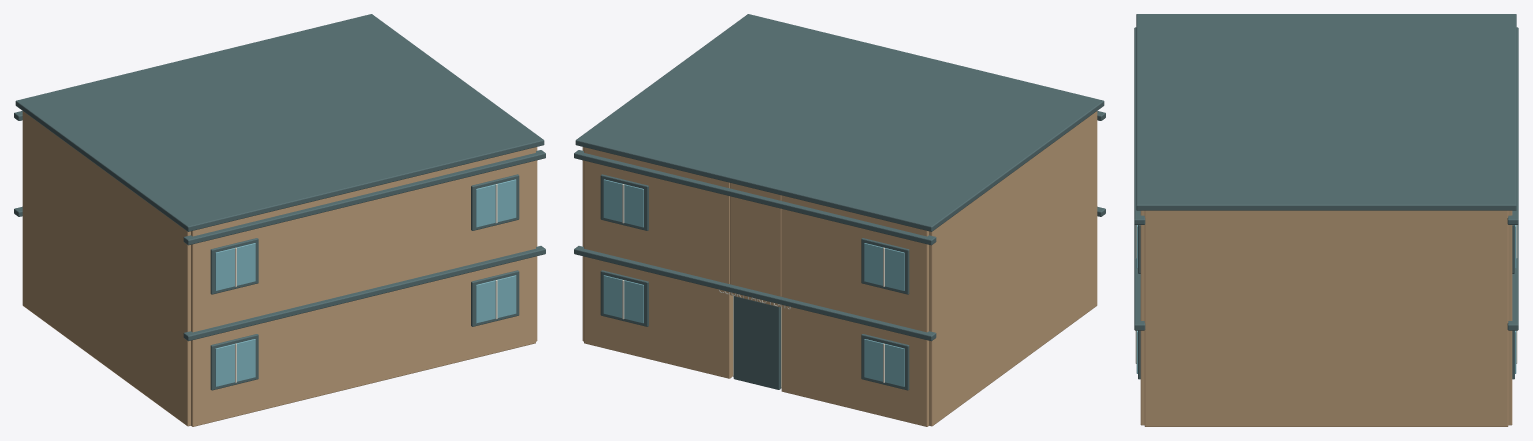
The model's file is flats.glb.
3 renders of one model, left to right at view 1: azimuth 30°, elevation 25°; view 2: azimuth 150°, elevation 25°; view 3: azimuth 270°, elevation 25°, orthographic. The views are drawn at different scales.
Parts seen in each view (by area): view 1: shell-wall, roof-trim, shell-trim, shell-glass; view 2: shell-wall, roof-trim, shell-trim, shell-glass, door leaf; view 3: shell-wall, roof-trim, shell-trim.
Boxes of the visible parts, left/top/right/bottom form: shell-wall: left=22, top=111, right=537, bottom=426; roof-trim: left=15, top=14, right=544, bottom=231; shell-trim: left=14, top=111, right=545, bottom=390; shell-glass: left=215, top=179, right=516, bottom=386; shell-wall: left=582, top=111, right=1097, bottom=426; roof-trim: left=575, top=14, right=1104, bottom=231; shell-trim: left=574, top=111, right=1105, bottom=390; shell-glass: left=603, top=179, right=904, bottom=386; door leaf: left=733, top=296, right=780, bottom=389; shell-wall: left=1140, top=210, right=1512, bottom=426; roof-trim: left=1136, top=14, right=1516, bottom=210; shell-trim: left=1134, top=27, right=1518, bottom=379.
Bounding box in the file's own units: 12.5 × 6.8 × 10.56.
